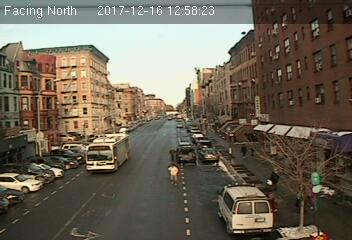bus: (85, 132, 130, 172)
car: (177, 144, 196, 163), (199, 147, 219, 162)
pedestrian: (167, 163, 180, 186), (167, 148, 176, 162)
police: (219, 182, 274, 234)
